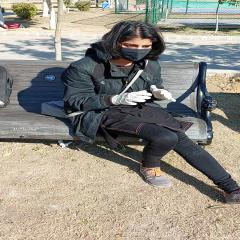gloved: (114, 91, 150, 106), (150, 85, 176, 101)
